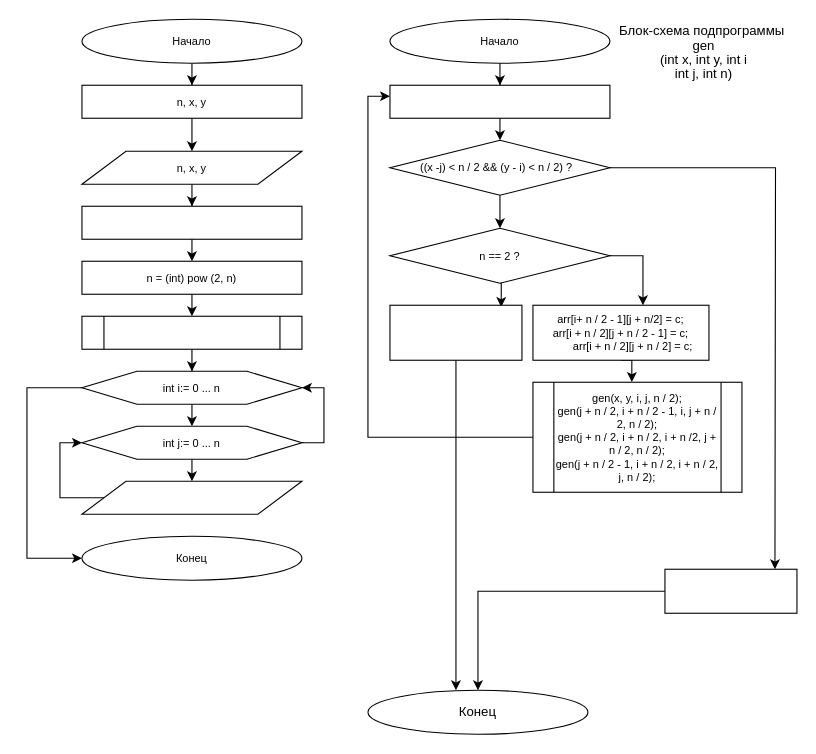
Image size: 816x754. Some labels were removed from this diagram. Here are the shapes that lost their labels. From the top down, the centre of each, then its label:
pixel 499 101: static int c; c ++;
pixel 191 222: x --; y --;
pixel 191 332: gen (x, y, 0, 0, n)
pixel 455 332: arr[i][j + 1] = c; arr[i + 1][j] = c; arr[i + 1][j + 1] = c;
pixel 191 497: arr[i][j]
pixel 730 590: // аналогично проверяем остальные четверти
